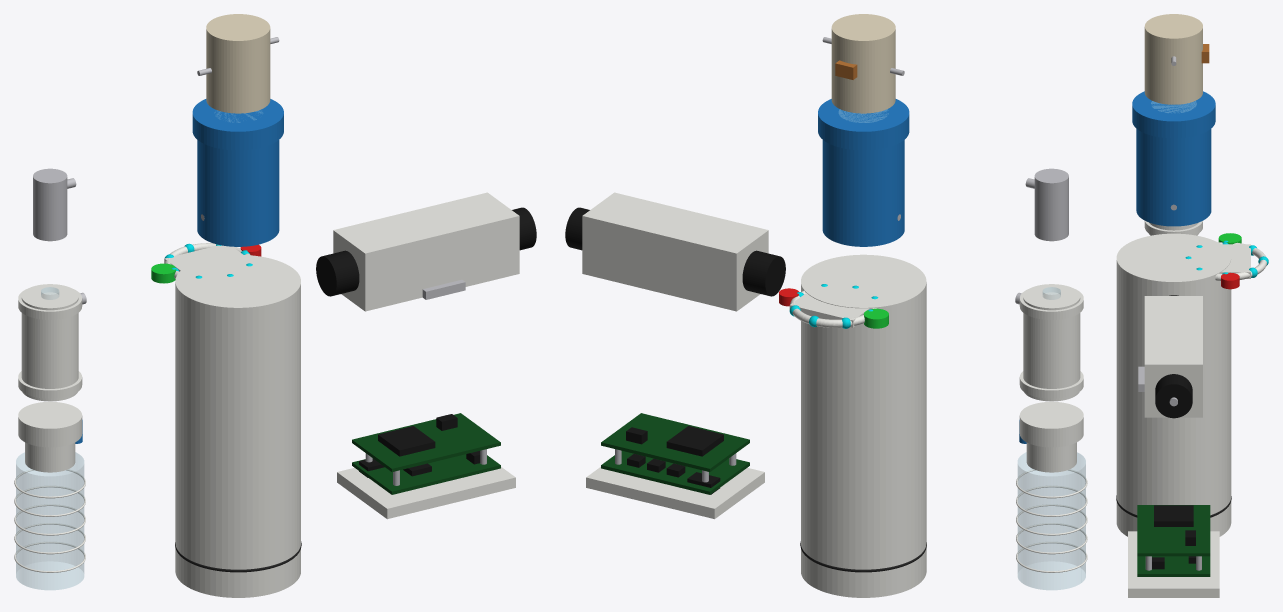
Rendered from aerostent_cad_model.obj.
3 views of the same model, side by side, from view 1: azimuth 30°, elevation 25°; view 2: azimuth 150°, elevation 25°; view 3: azimuth 270°, elevation 25° (orthographic). The views are drawn at different scales.
Visible parts, largest first — view 1: P1_Housing_Body, P7_Battery_Tray, P2_Mouth_Outer, P3_Reservoir_Body, P10_VenturiManifold_Body, P5_PEPValve_Body, P6_PCBCarrier_Tray, P2_Mouth_LipFlare, P6_ESP32_Board, P3_Reservoir_Cap, P8_ReliefValve_Body, P6_STM32_Board (+7 smaller); view 2: P1_Housing_Body, P7_Battery_Tray, P2_Mouth_Outer, P3_Reservoir_Body, P10_VenturiManifold_Body, P5_PEPValve_Body, P6_PCBCarrier_Tray, P2_Mouth_LipFlare, P6_ESP32_Board, P3_Reservoir_Cap, P8_ReliefValve_Body, P6_STM32_Board (+7 smaller); view 3: P1_Housing_Body, P2_Mouth_Outer, P7_Battery_Tray, P10_VenturiManifold_Body, P2_Mouth_LipFlare, P6_ESP32_Board, P6_PCBCarrier_Tray, P7_18650_18, P6_STM32_Board, P6_ESP32_Module, P9_Display_Bezel, P5_Valve_InletFlange (+4 smaller).
Part boxes in pixels (x1,y1,x2,y2): P1_Housing_Body: [175, 254, 300, 597]; P7_Battery_Tray: [333, 192, 519, 311]; P2_Mouth_Outer: [197, 140, 279, 246]; P3_Reservoir_Body: [16, 452, 84, 590]; P10_VenturiManifold_Body: [206, 14, 270, 113]; P5_PEPValve_Body: [21, 284, 78, 401]; P6_PCBCarrier_Tray: [337, 467, 515, 519]; P2_Mouth_LipFlare: [192, 99, 283, 150]; P6_ESP32_Board: [352, 413, 500, 471]; P3_Reservoir_Cap: [18, 401, 82, 447]; P8_ReliefValve_Body: [33, 168, 67, 241]; P6_STM32_Board: [352, 454, 500, 494]; P1_Housing_Body: [801, 254, 926, 597]; P7_Battery_Tray: [582, 192, 768, 311]; P2_Mouth_Outer: [822, 140, 904, 246]; P3_Reservoir_Body: [1017, 452, 1085, 590]; P10_VenturiManifold_Body: [831, 14, 895, 113]; P5_PEPValve_Body: [1023, 284, 1080, 401]; P6_PCBCarrier_Tray: [586, 467, 764, 519]; P2_Mouth_LipFlare: [818, 99, 909, 150]; P6_ESP32_Board: [601, 413, 749, 471]; P3_Reservoir_Cap: [1019, 401, 1083, 447]; P8_ReliefValve_Body: [1034, 168, 1068, 241]; P6_STM32_Board: [601, 451, 749, 494]; P1_Housing_Body: [1116, 233, 1231, 536]; P2_Mouth_Outer: [1136, 129, 1211, 226]; P7_Battery_Tray: [1144, 296, 1202, 417]; P10_VenturiManifold_Body: [1144, 14, 1202, 104]; P2_Mouth_LipFlare: [1132, 91, 1215, 138]; P6_ESP32_Board: [1137, 505, 1210, 556]; P6_PCBCarrier_Tray: [1128, 531, 1219, 597]; P7_18650_18: [1155, 374, 1192, 418]; P6_STM32_Board: [1137, 556, 1210, 576]; P6_ESP32_Module: [1154, 505, 1193, 526]; P9_Display_Bezel: [1220, 244, 1250, 278]; P5_Valve_InletFlange: [1144, 221, 1202, 235].
Size of what is drawn, in the model's own units: 0.2577 by 0.2625 by 0.0732.
